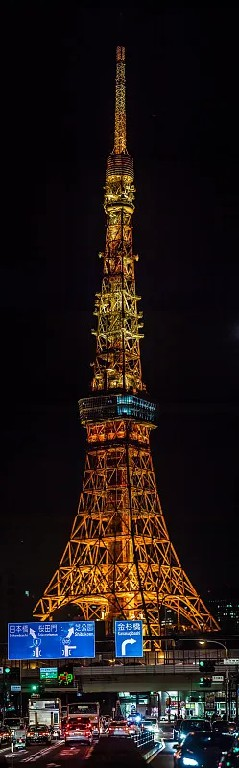Tokyo: (32, 41, 226, 638)
